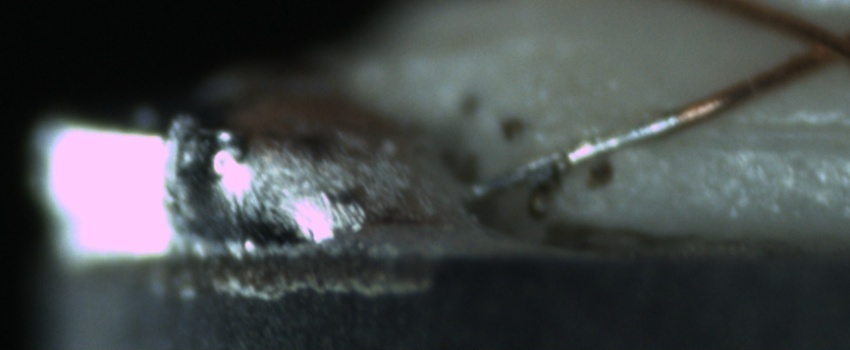CL: (792, 15, 850, 76)
DL: (684, 97, 849, 166)
TS: (473, 109, 684, 200)
